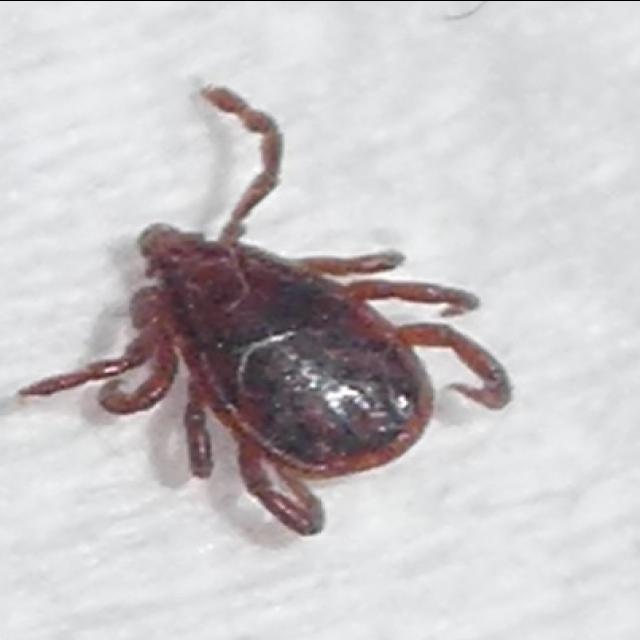Rhipicephalus Sanguineus-M: (19, 83, 514, 536)
